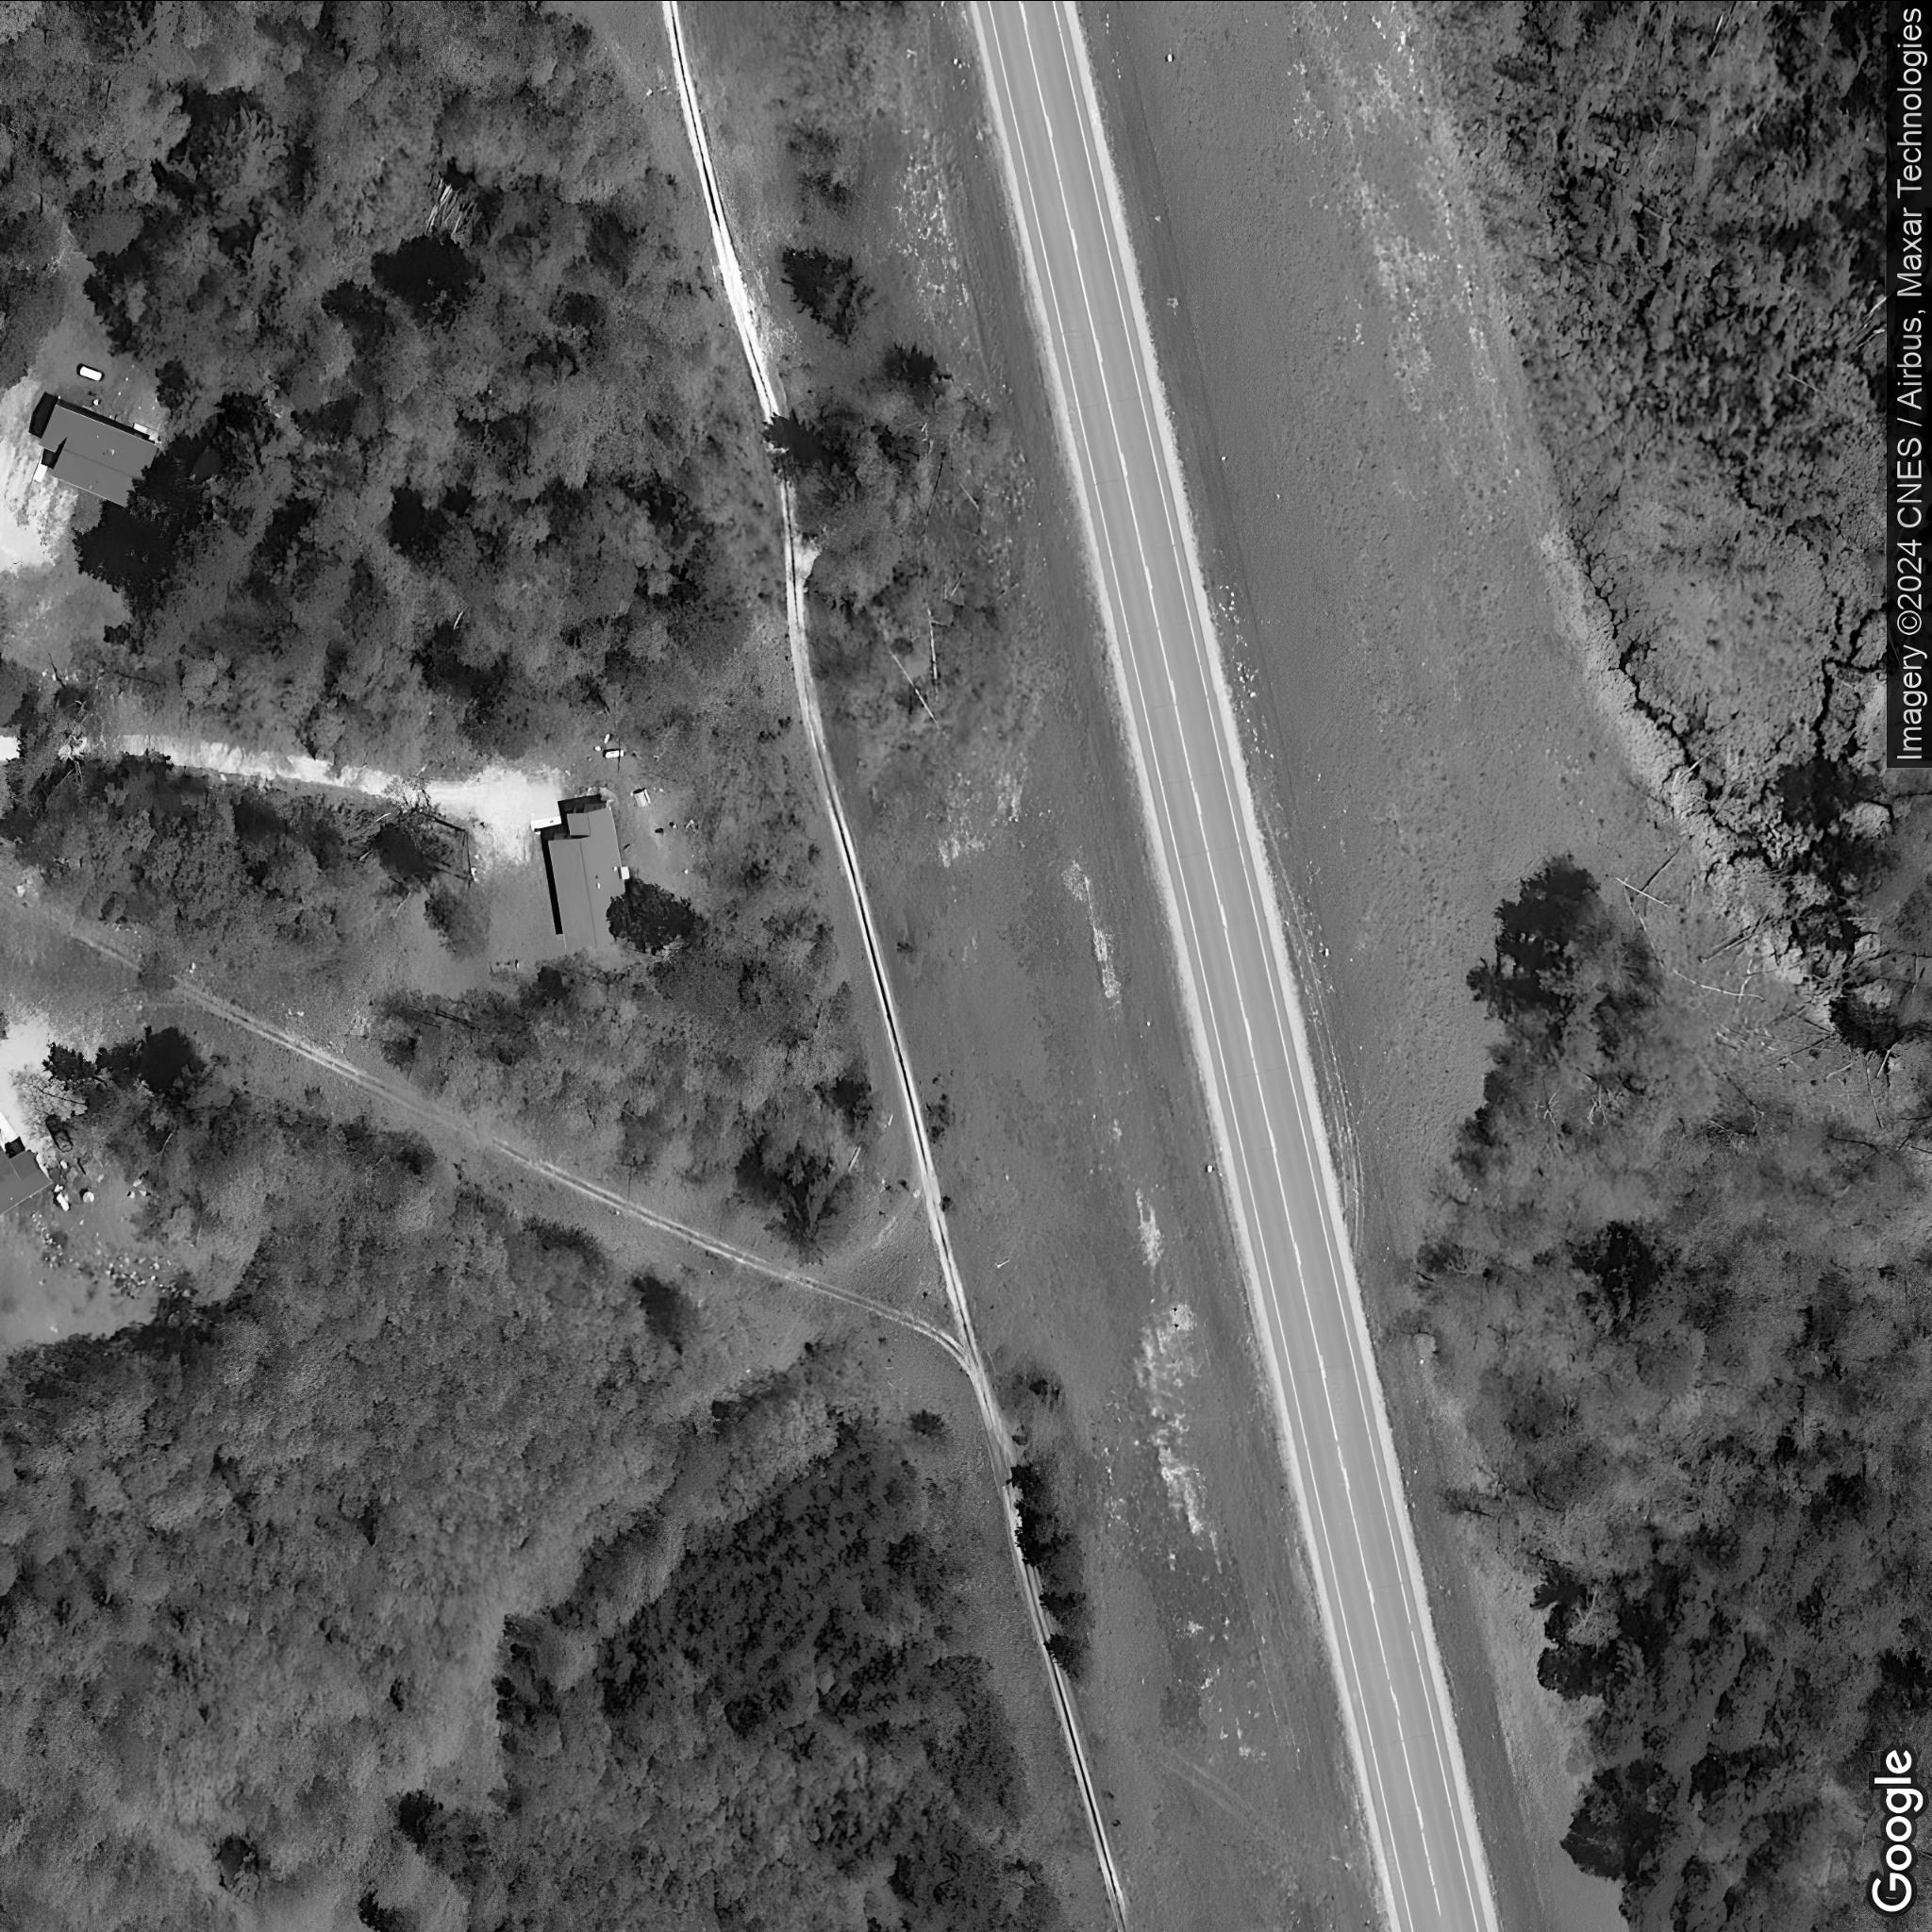House: (35, 398, 159, 513), (545, 801, 633, 948), (0, 1145, 55, 1214)
Propane: (73, 359, 108, 387), (51, 1187, 76, 1215), (600, 745, 626, 759)
